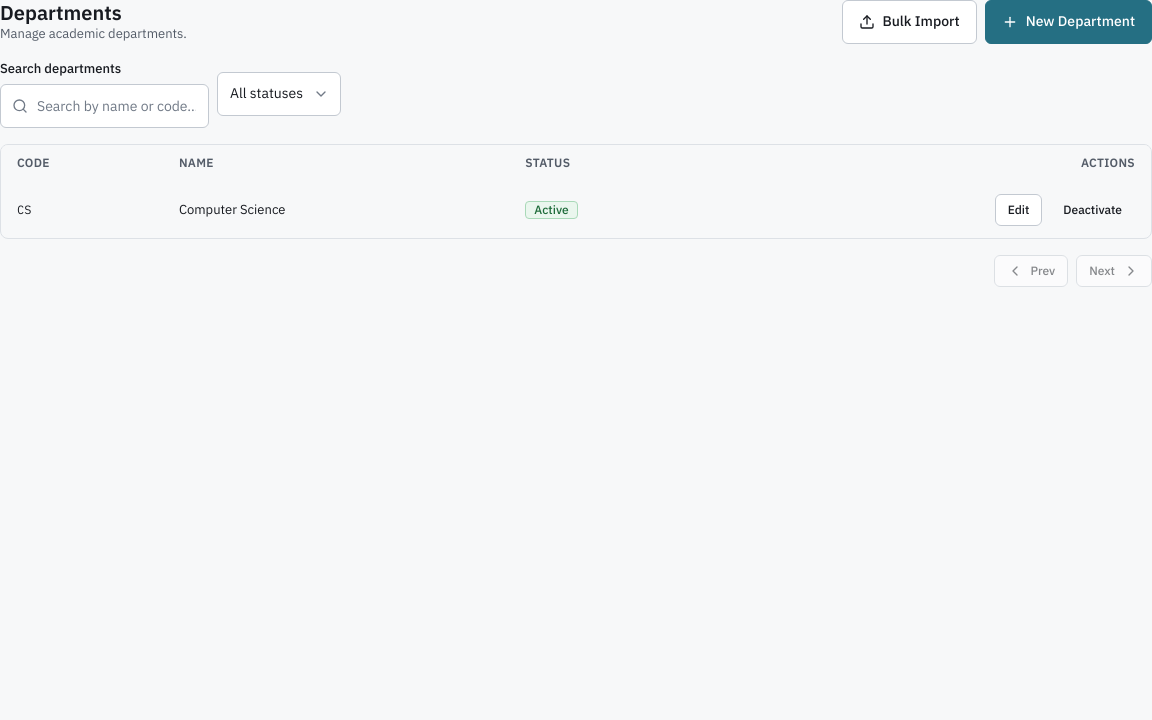
Test: Admin > Academic Structure > Departments › edits an existing department
Expected: the text "Computer Science" is shown, top-left (163, 182), bottom-right (509, 238)
Click the button "Edit": (1018, 210) top-left (995, 194), bottom-right (1042, 226)
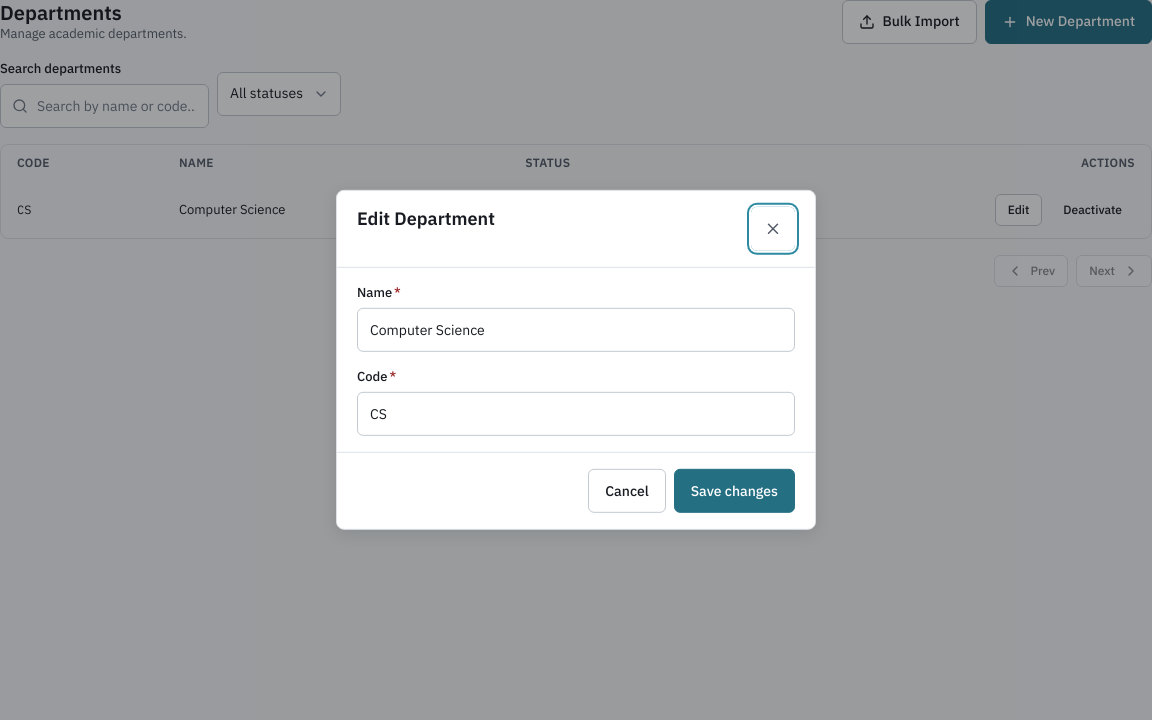
Replace the text in the field labelled "Name*" with "Computer Science & Engineering": (576, 330) top-left (357, 308), bottom-right (795, 352)
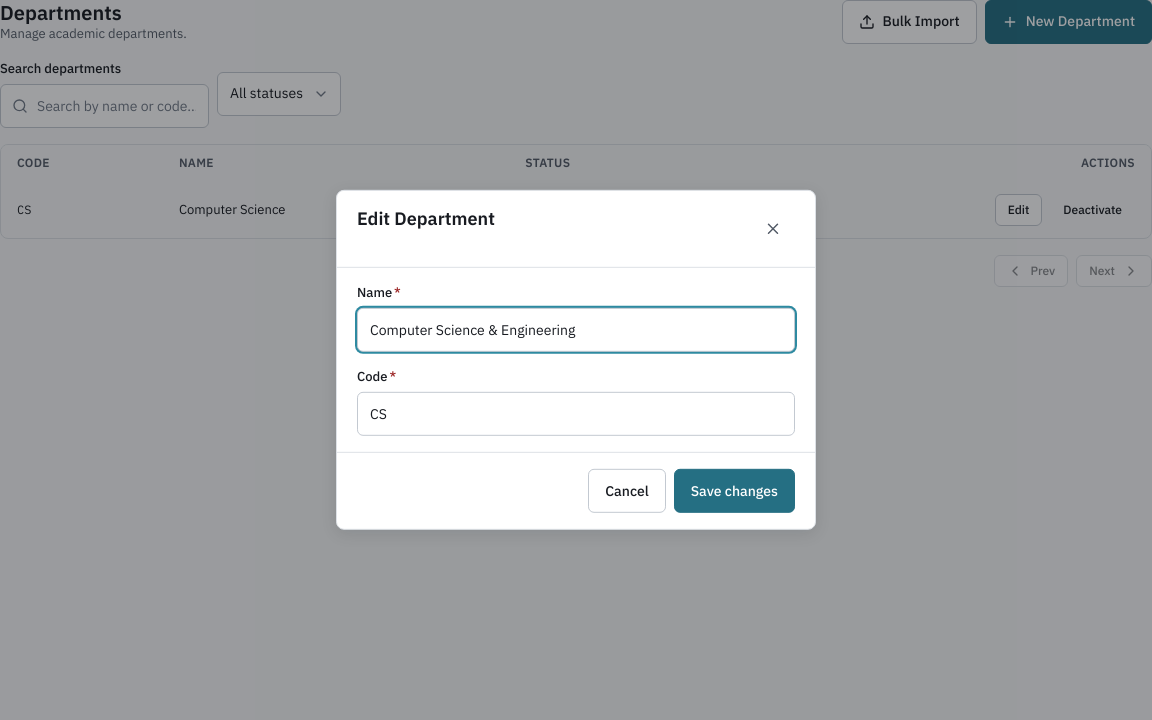
Click the button "Save changes": (734, 491) top-left (674, 469), bottom-right (795, 513)
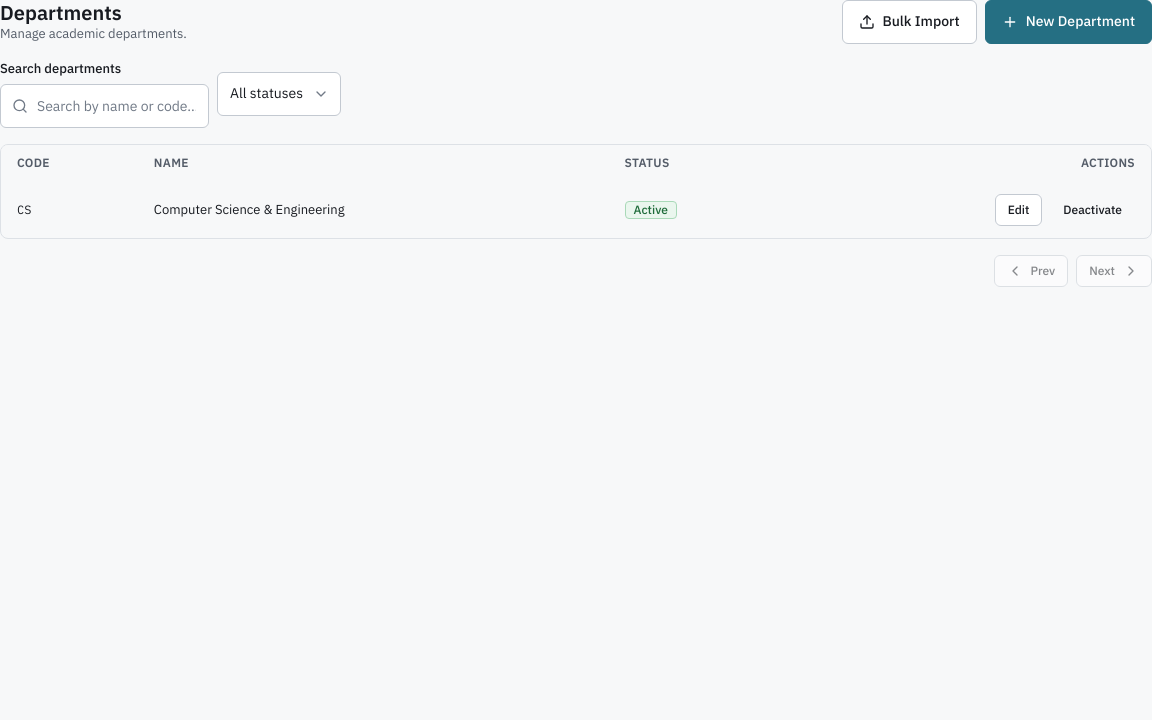
Now the dialog is gone
Now the text "Computer Science & Engineering" is shown, box top-left (138, 182), bottom-right (609, 238)
